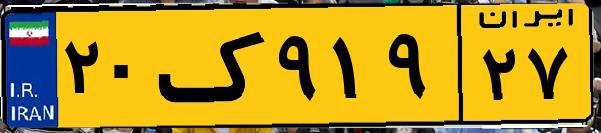0: (110, 28, 158, 98)
1: (330, 28, 385, 110)
2: (57, 26, 110, 100), (475, 38, 525, 113)
7: (525, 38, 570, 115)
9: (270, 28, 330, 110), (385, 28, 445, 110)
ک: (158, 12, 270, 120)
